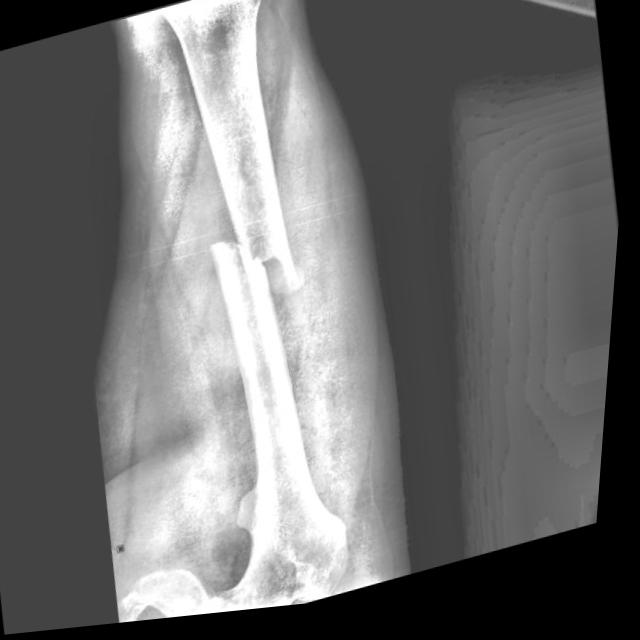fracture: (197, 205, 325, 336)
